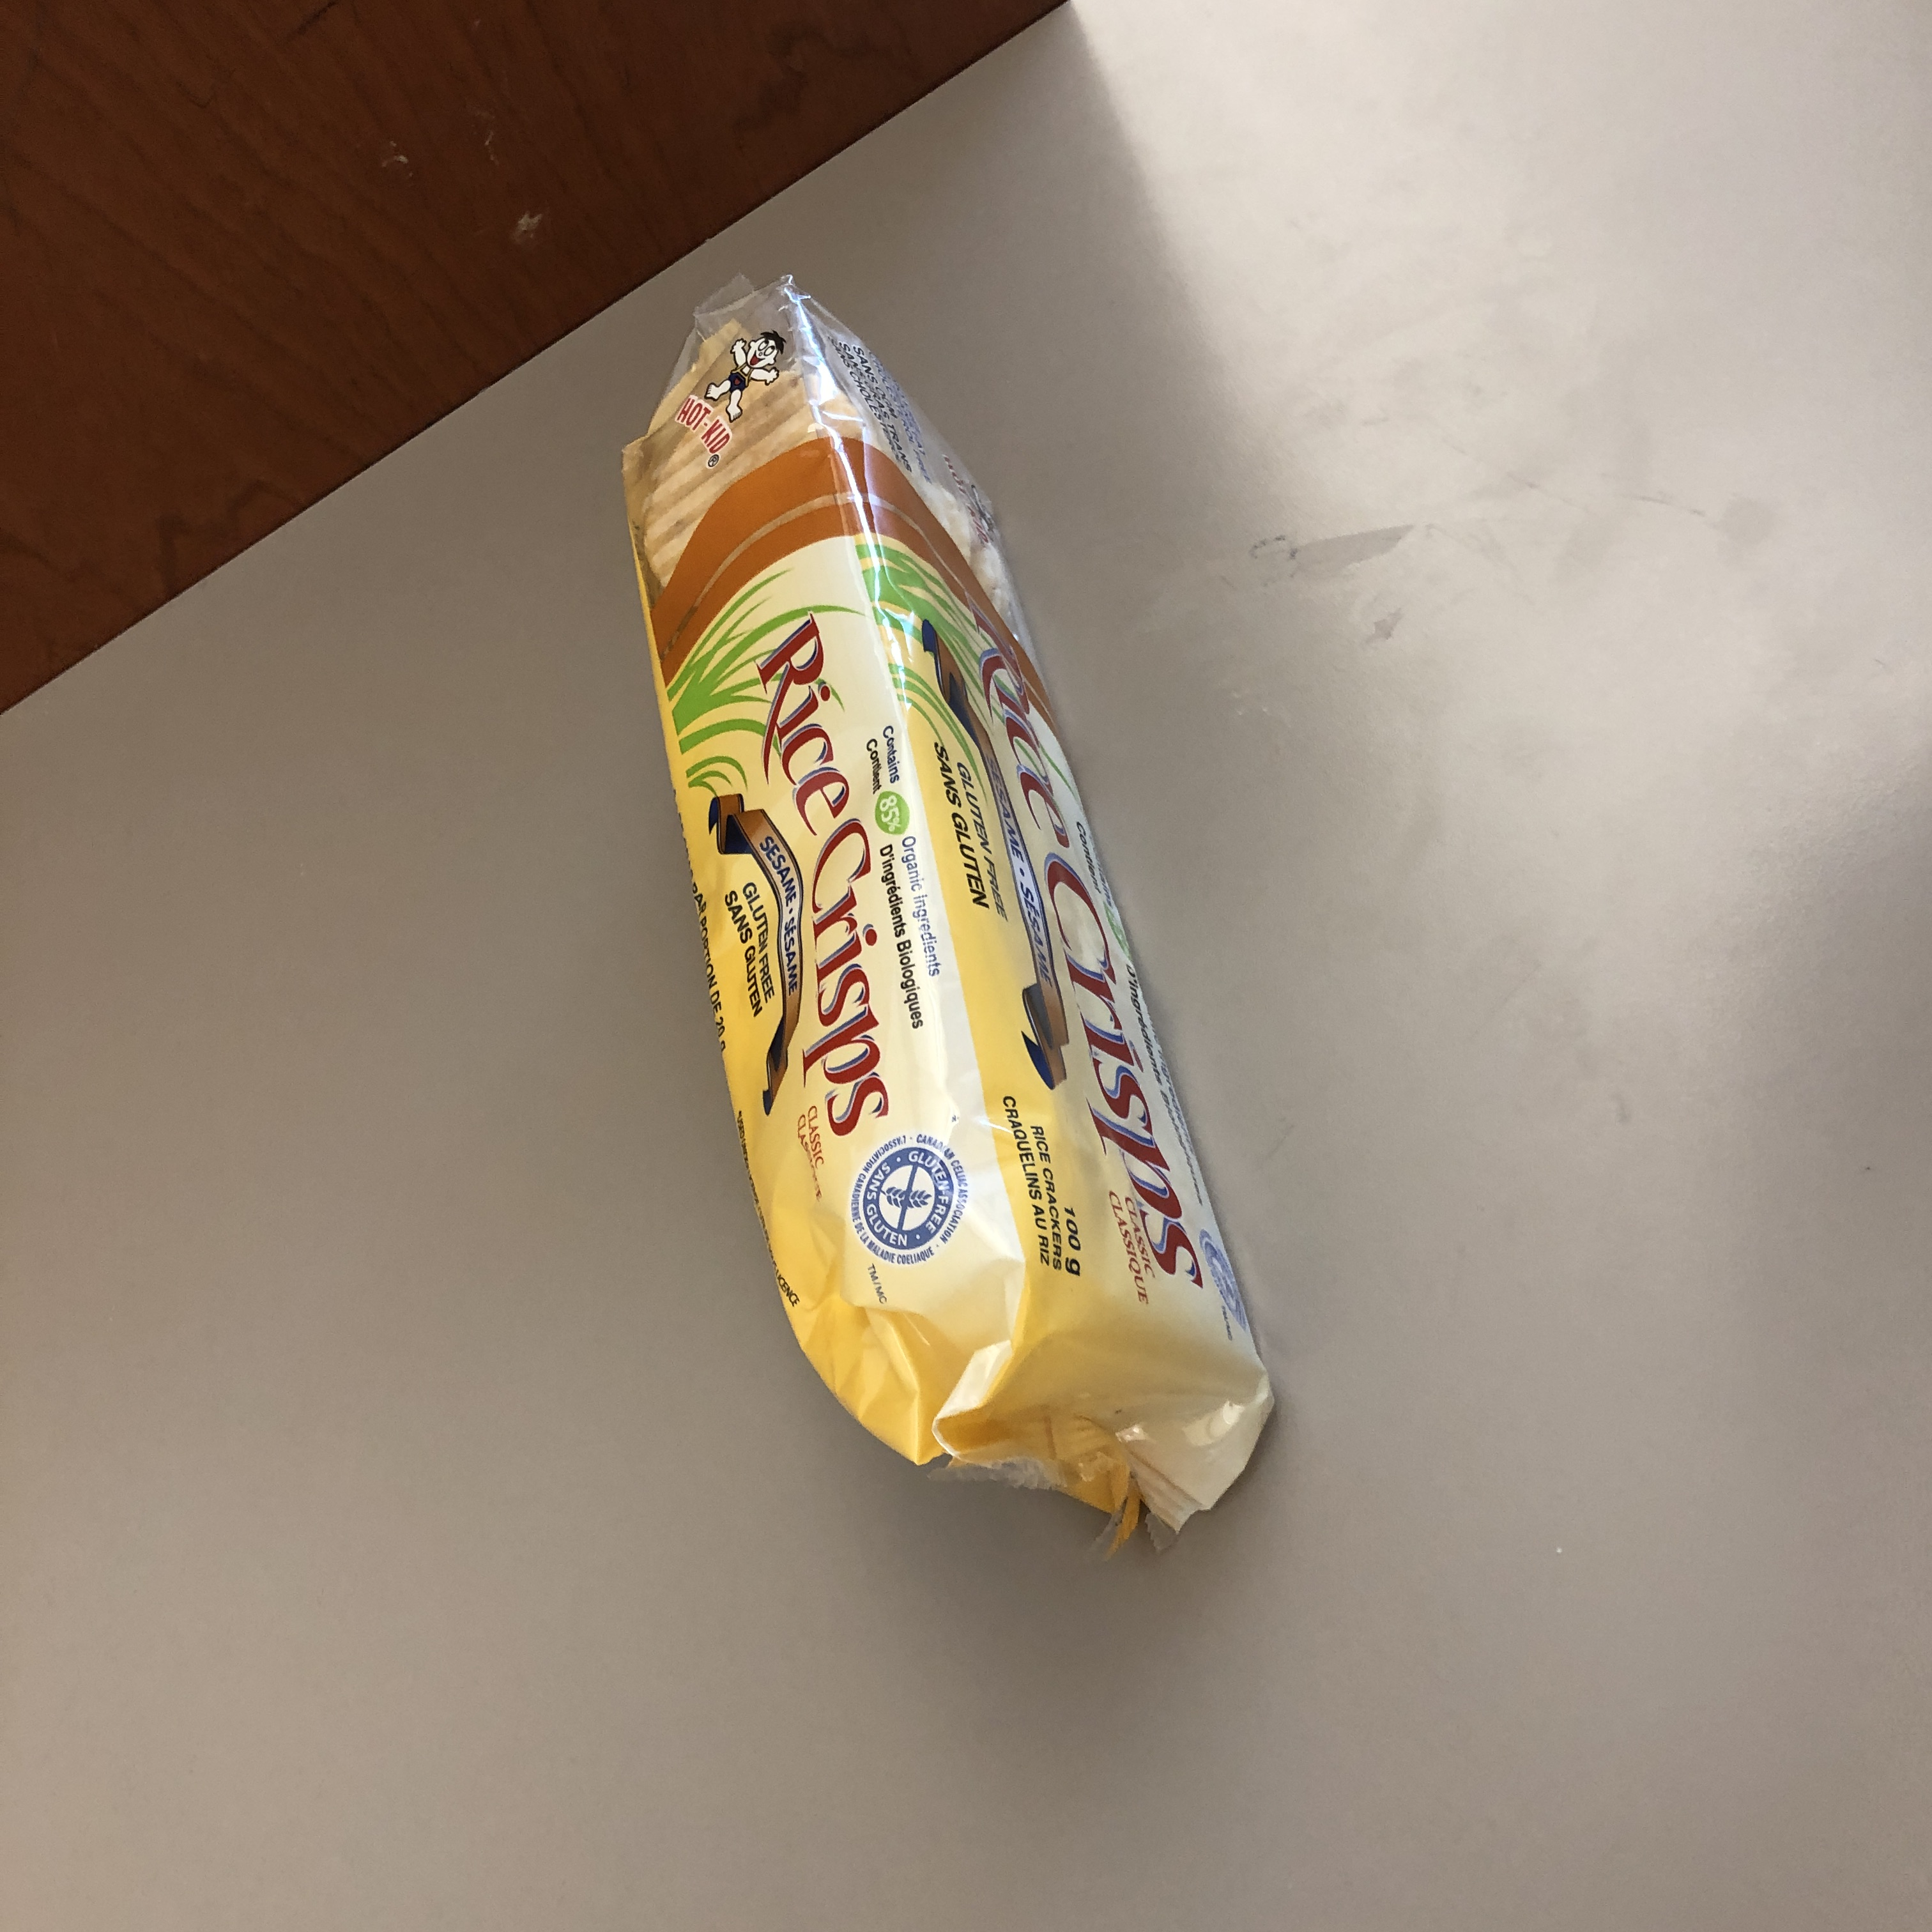hot_kid_rice_crisps_sesame: (392, 693, 1452, 1302)
